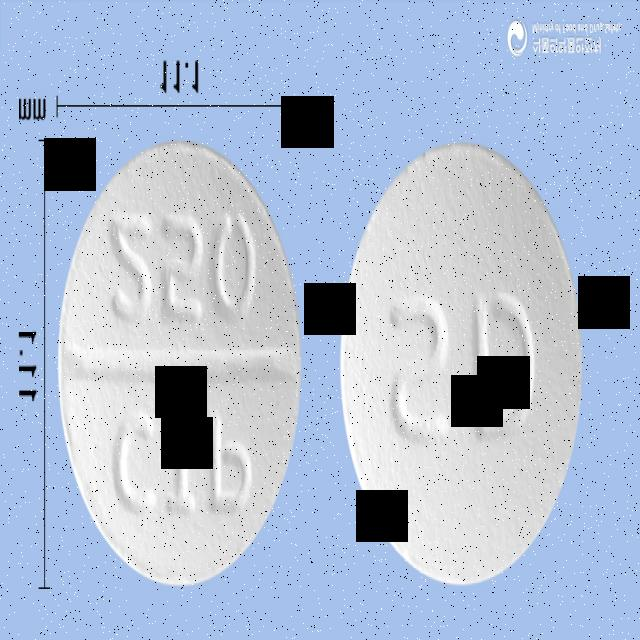Wooridul Ciprofloxacin Tab: (56, 139, 302, 588), (339, 141, 584, 587)
